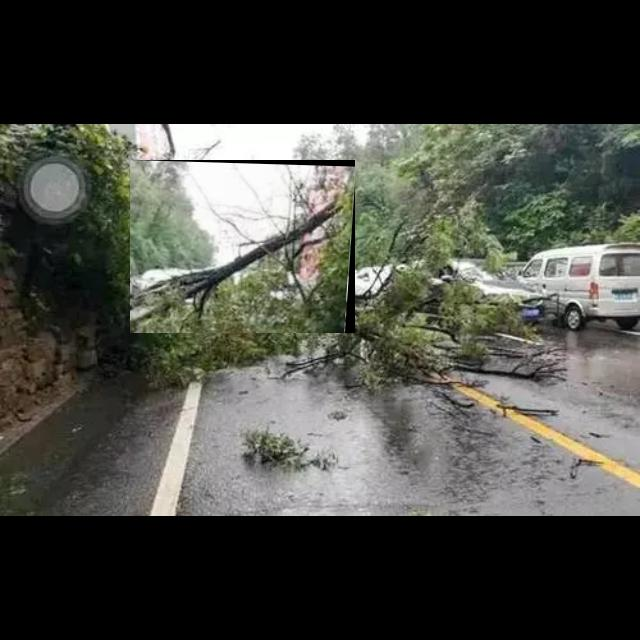Fallen Tree: (130, 160, 356, 334)
